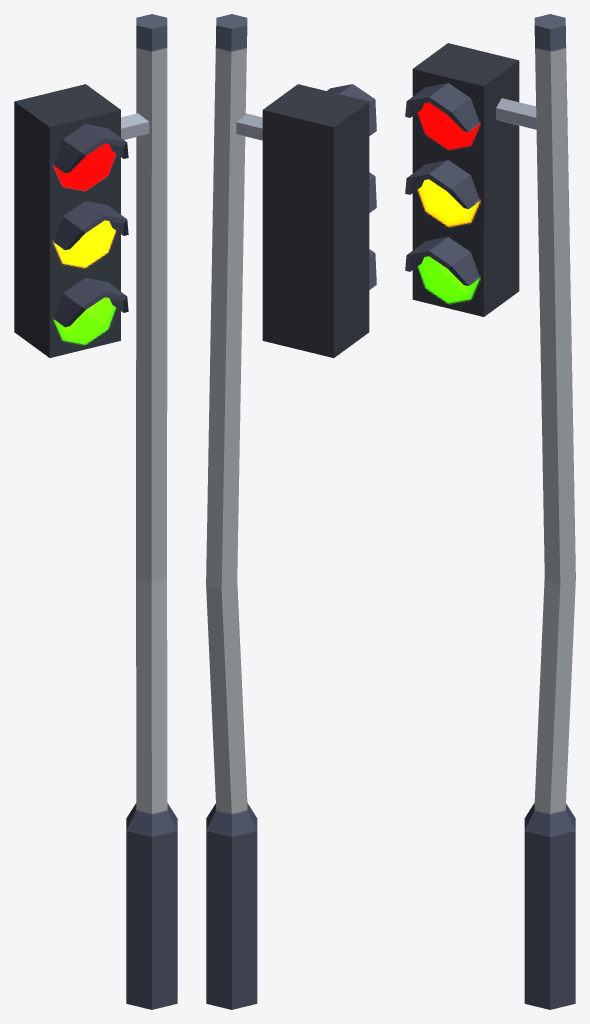
File: lampu merah.fbx
3 views of the same model, side by side, from view 1: azimuth 30°, elevation 25°; view 2: azimuth 150°, elevation 25°; view 3: azimuth 330°, elevation 25° (orthographic).
Visible parts, largest first — view 1: Cylinder; view 2: Cylinder; view 3: Cylinder.
Boxes of the visible parts, x1=… form: Cylinder: x1=14, y1=14, x2=177, y2=1009; Cylinder: x1=206, y1=14, x2=376, y2=1009; Cylinder: x1=405, y1=14, x2=575, y2=1009.
Bounding box in the file's own units: 156 × 998 × 101.
